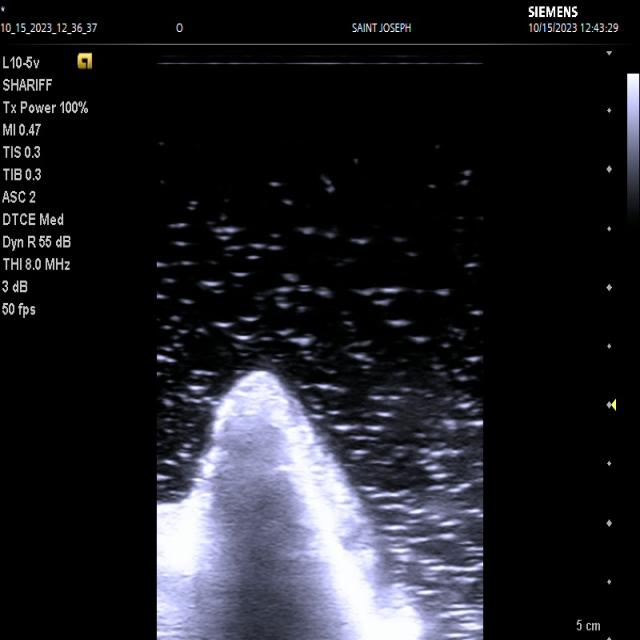tissue: (155, 371, 414, 640)
